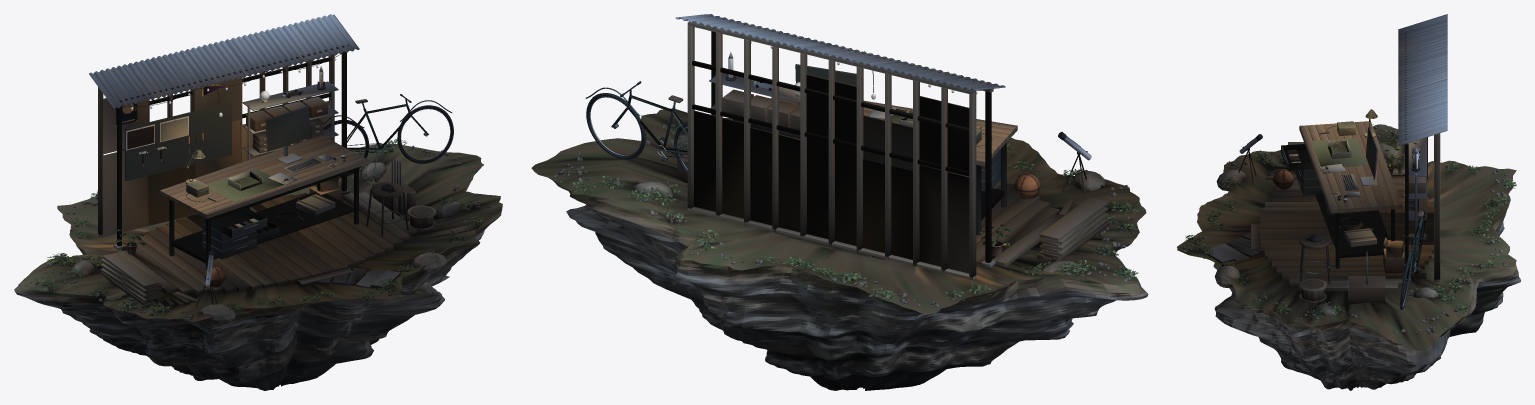
File: flight-projects-0f15099d.glb
The picture shows the model from 3 angles, left to right: view 1: azimuth 30°, elevation 25°; view 2: azimuth 150°, elevation 25°; view 3: azimuth 270°, elevation 25°; orthographic projection. The views are drawn at different scales.
Parts seen in each view (by area): view 1: Projects island · flight; view 2: Projects island · flight; view 3: Projects island · flight.
Boxes of the visible parts, box(x1,y1,x2,y2) form: Projects island · flight: box(14, 14, 502, 390); Projects island · flight: box(531, 14, 1148, 390); Projects island · flight: box(1177, 14, 1520, 390).
Bounding box in the file's own units: 12.73 × 7.92 × 8.1.
